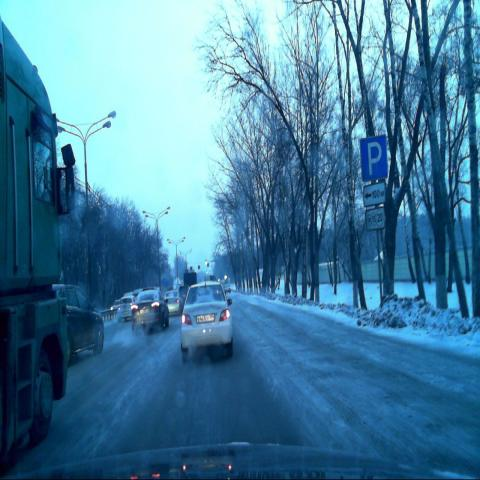6_4: (360, 134, 388, 181)
8_1_4: (362, 183, 386, 207)
8_8: (365, 208, 385, 228)
